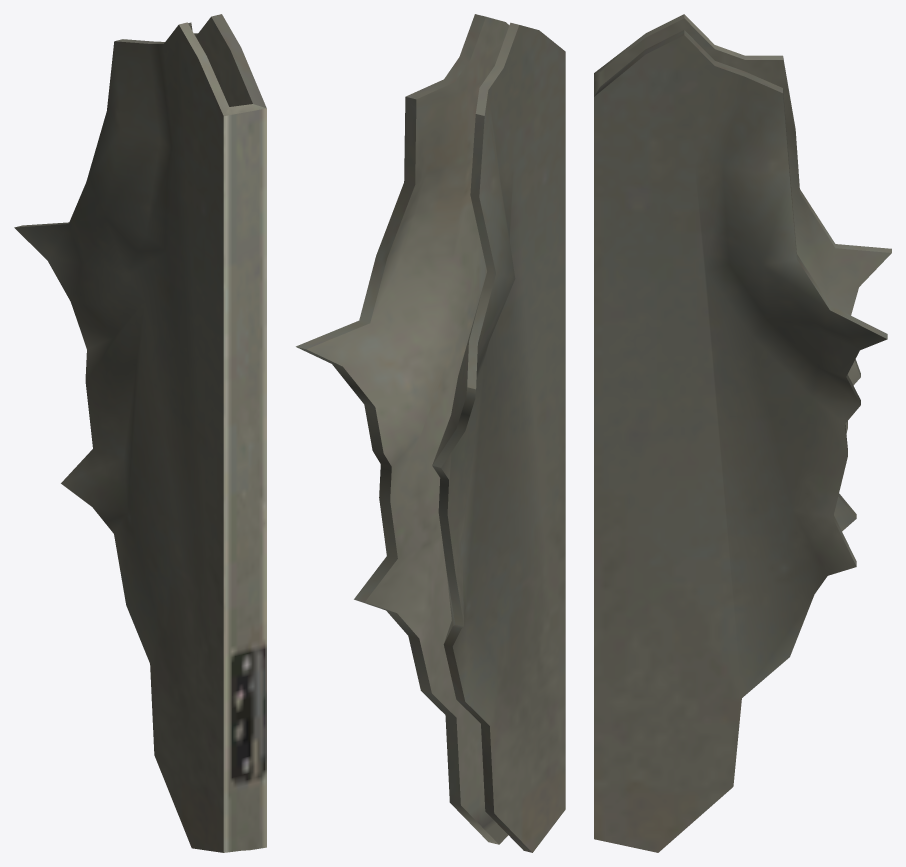
The model's file is doormainmetalsmall01_dm08_g.glb.
3 views of the same model, side by side, from view 1: azimuth 30°, elevation 25°; view 2: azimuth 150°, elevation 25°; view 3: azimuth 270°, elevation 25° (orthographic). The views are drawn at different scales.
Parts seen in each view (by area): view 1: doormainmetalsmall01_dm08_g; view 2: doormainmetalsmall01_dm08_g; view 3: doormainmetalsmall01_dm08_g.
Part boxes in pixels (x1,y1,x2,y2): doormainmetalsmall01_dm08_g: [14, 14, 266, 852]; doormainmetalsmall01_dm08_g: [296, 14, 565, 852]; doormainmetalsmall01_dm08_g: [594, 14, 891, 852].
Bounding box in the file's own units: 0.1575 × 0.6896 × 0.2276.
Materials: 1 (1 with a texture image).
